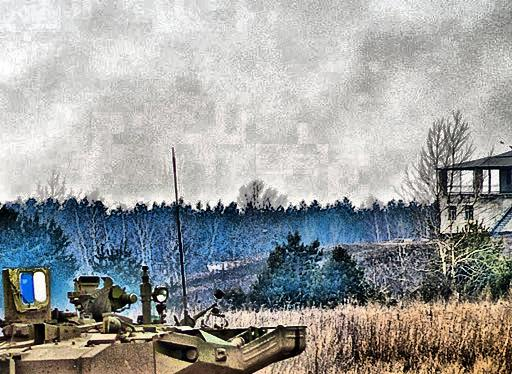tanks: (1, 269, 307, 374)
